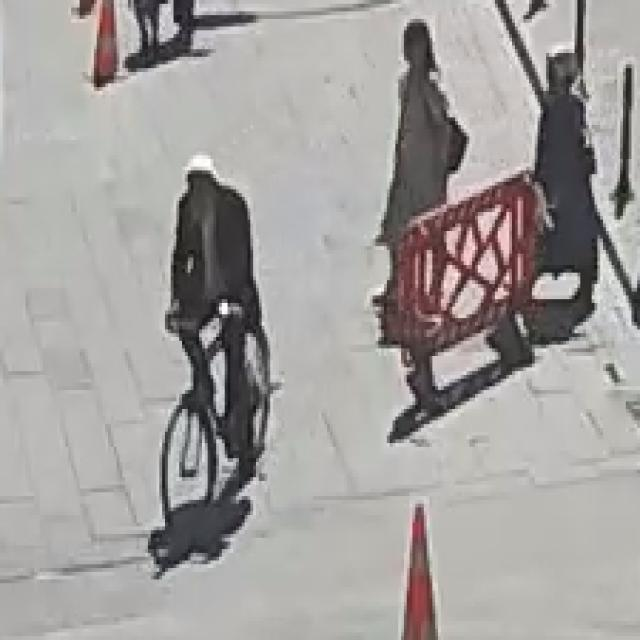Cycle: (155, 300, 285, 535)
